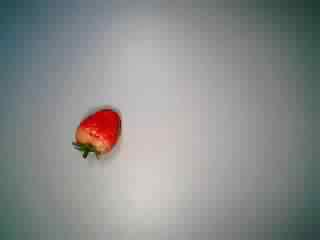strawberry: (63, 102, 136, 169)
